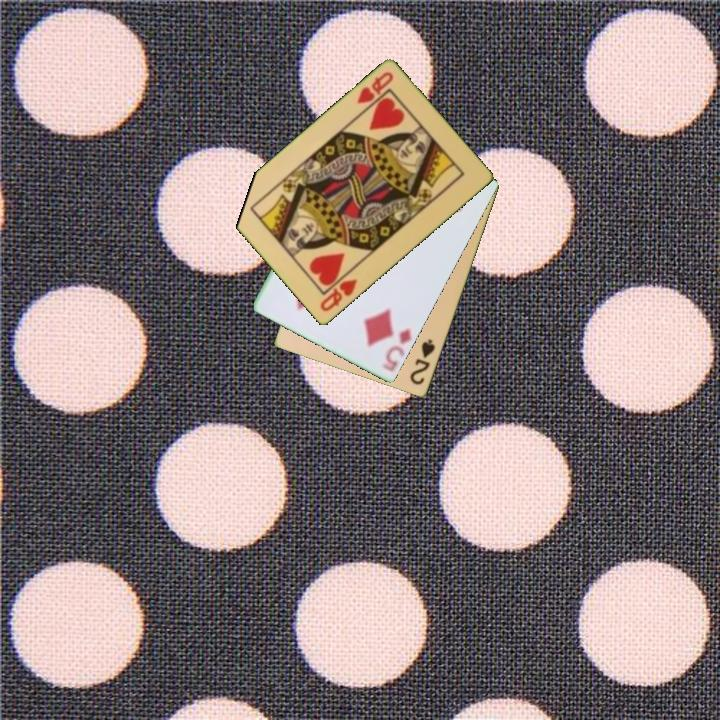2s: (407, 336, 438, 388)
5d: (382, 324, 415, 375)
Qh: (316, 275, 361, 315), (353, 68, 396, 107)
